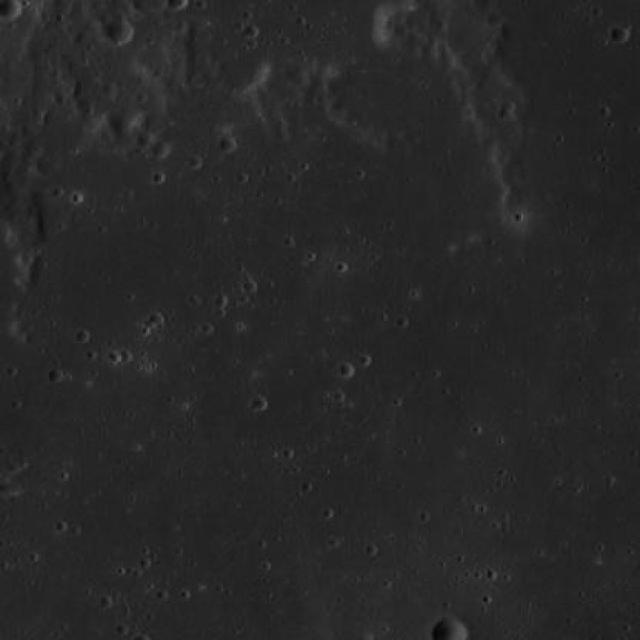crater: (333, 21, 459, 144), (218, 44, 268, 92), (37, 150, 63, 176), (108, 20, 132, 45), (112, 119, 134, 141), (0, 0, 22, 20), (288, 66, 310, 86), (610, 23, 628, 42), (487, 10, 504, 27), (219, 136, 236, 152), (152, 140, 168, 157), (0, 479, 15, 495)
